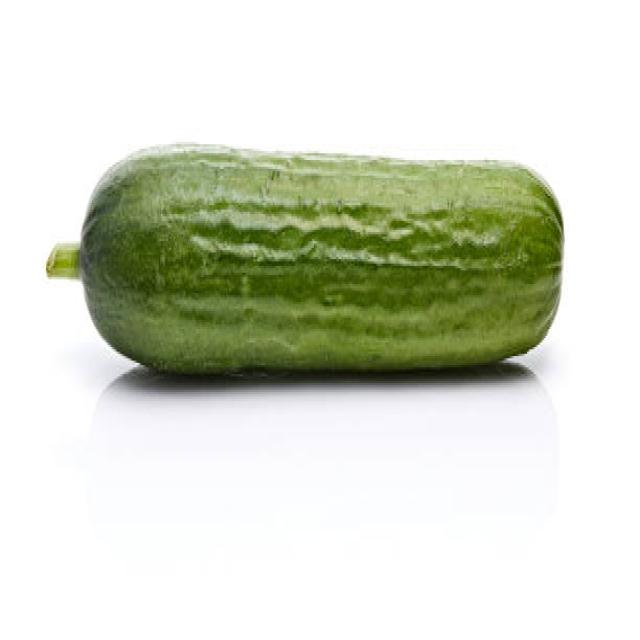cucumber: (81, 138, 564, 380)
